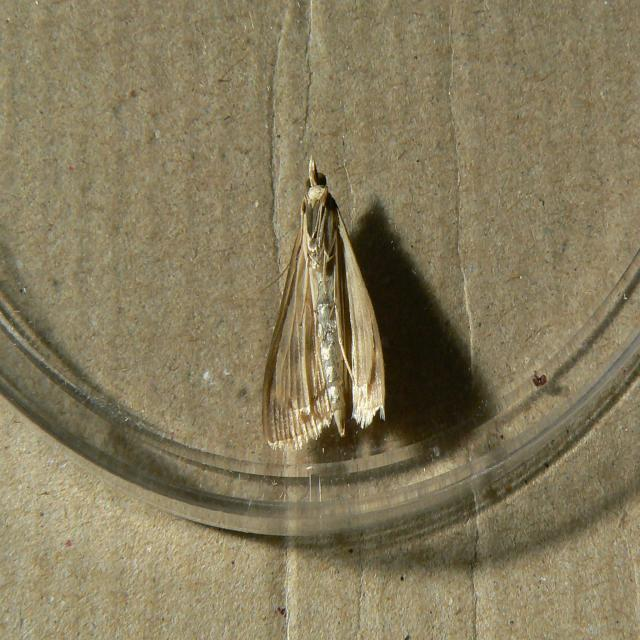cornborer-Adult-: (235, 132, 400, 468)
